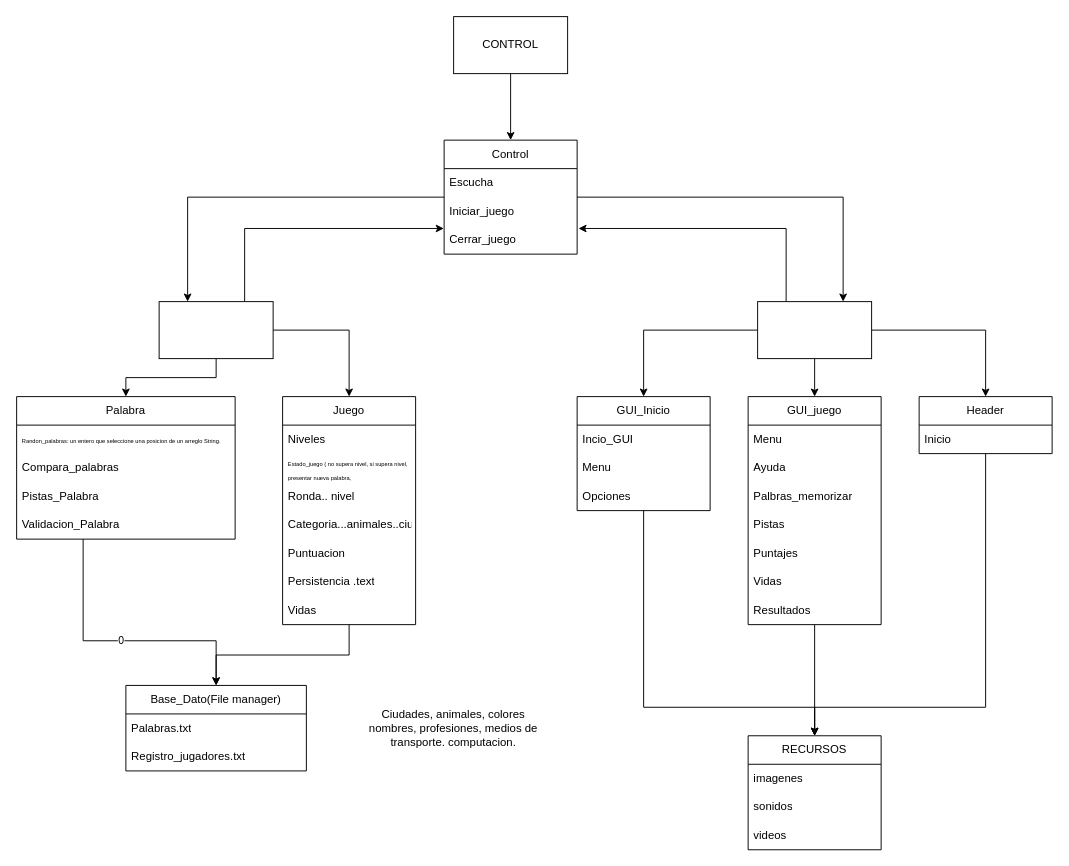
The diagram is 1069 pixels wide and 866 high, and some of its shapes have lost their labels. The centre of each missing label's shape, as x and y in pixels:
MODELO: the point at 215,330
VISTA: the point at 814,330
